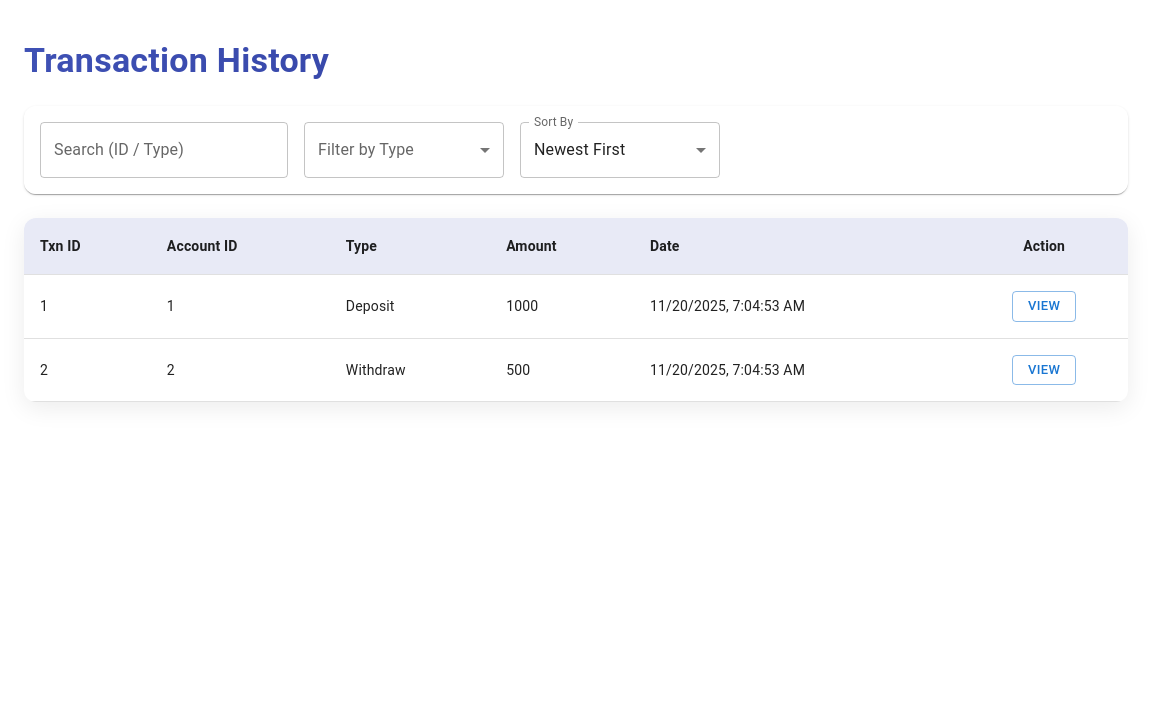
Transactions Component › opens transaction modal on View click
This screenshot has width=1152, height=720.
Click the button "View" in the row of "Deposit" at (1044, 306), box x1=1012 y1=291 x2=1076 y2=322
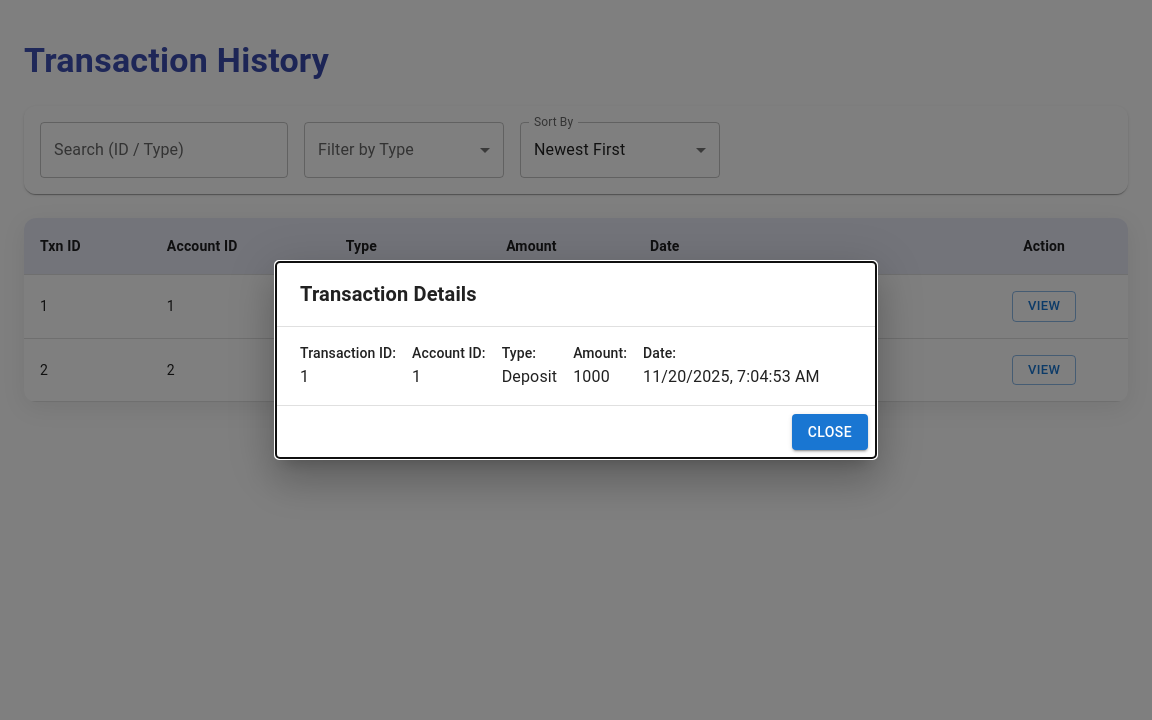
Now the heading "Transaction ID:" is shown, box x1=300 y1=343 x2=396 y2=365
